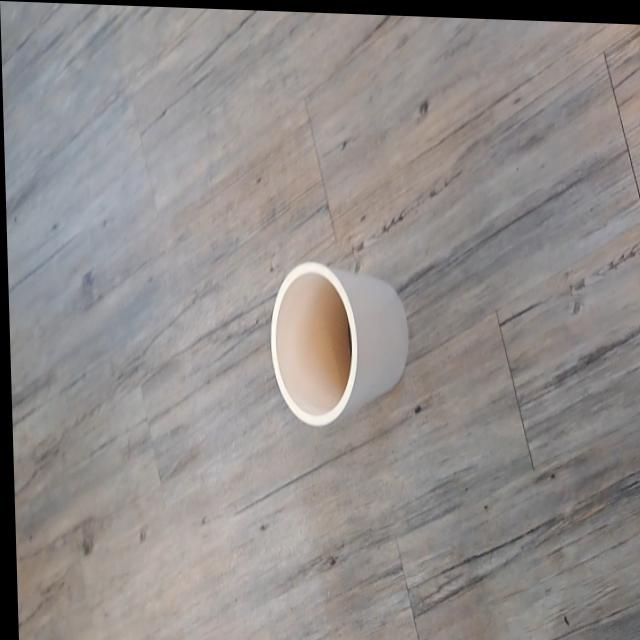CORAL: (259, 235, 429, 447)
